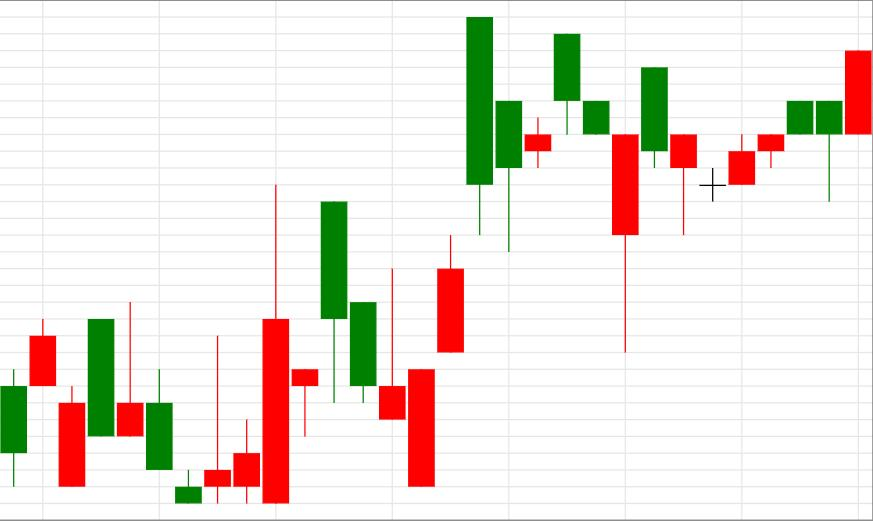hanging_man_fall: (698, 100, 842, 203)
